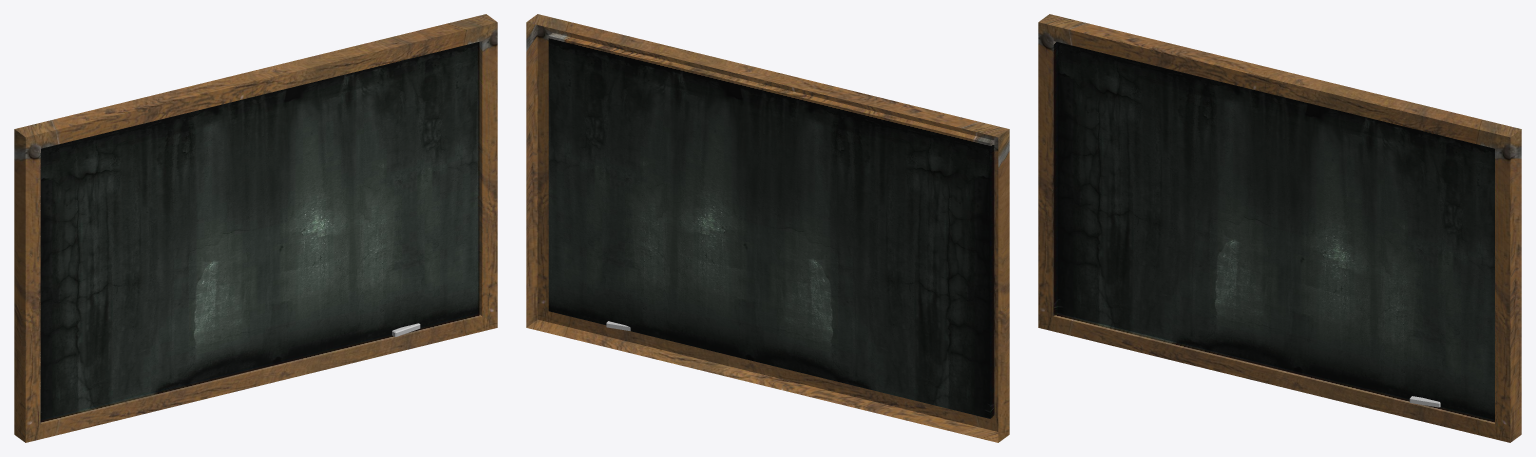
The model's file is desk.FBX.
The picture shows the model from 3 angles, left to right: view 1: azimuth 30°, elevation 25°; view 2: azimuth 150°, elevation 25°; view 3: azimuth 330°, elevation 25°; orthographic projection.
Visible parts, largest first — view 1: desk; view 2: desk; view 3: desk.
Boxes of the visible parts, x1=… form: desk: x1=14, y1=14, x2=497, y2=442; desk: x1=526, y1=14, x2=1009, y2=442; desk: x1=1038, y1=14, x2=1521, y2=442.
Size of the model in its own units: 305 by 189 by 12.59.
